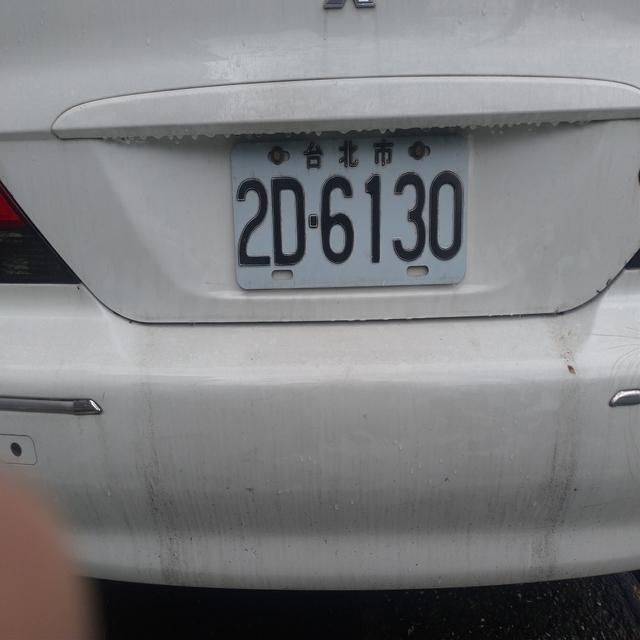plate: (230, 166, 470, 270)
